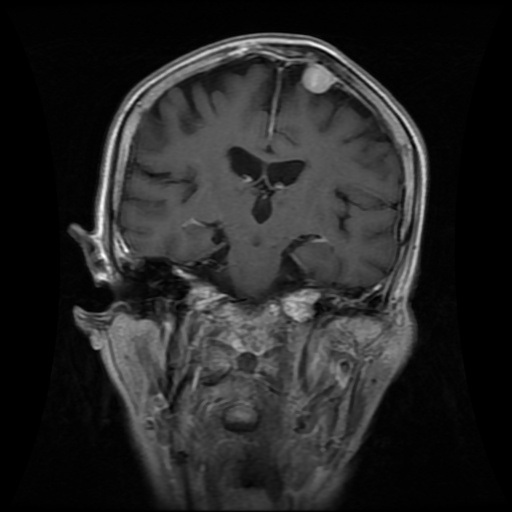meningioma: (301, 65, 334, 93)
